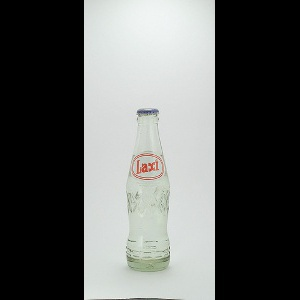emptybottle: (126, 109, 169, 273)
